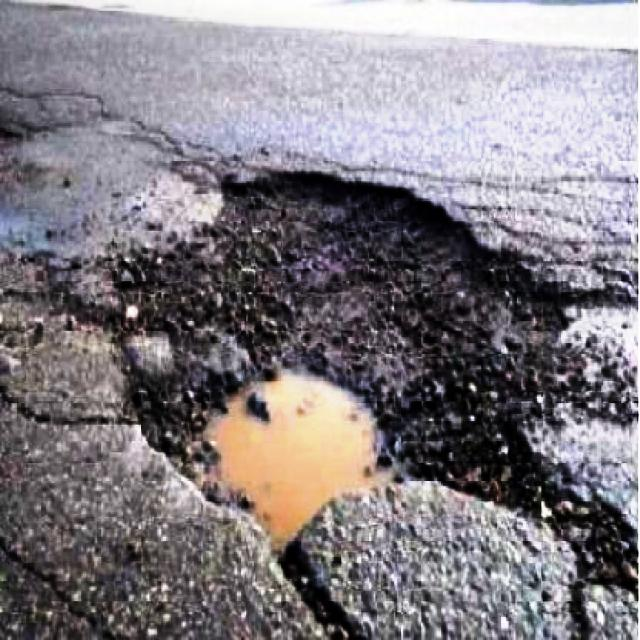pothole: (95, 158, 640, 640)
